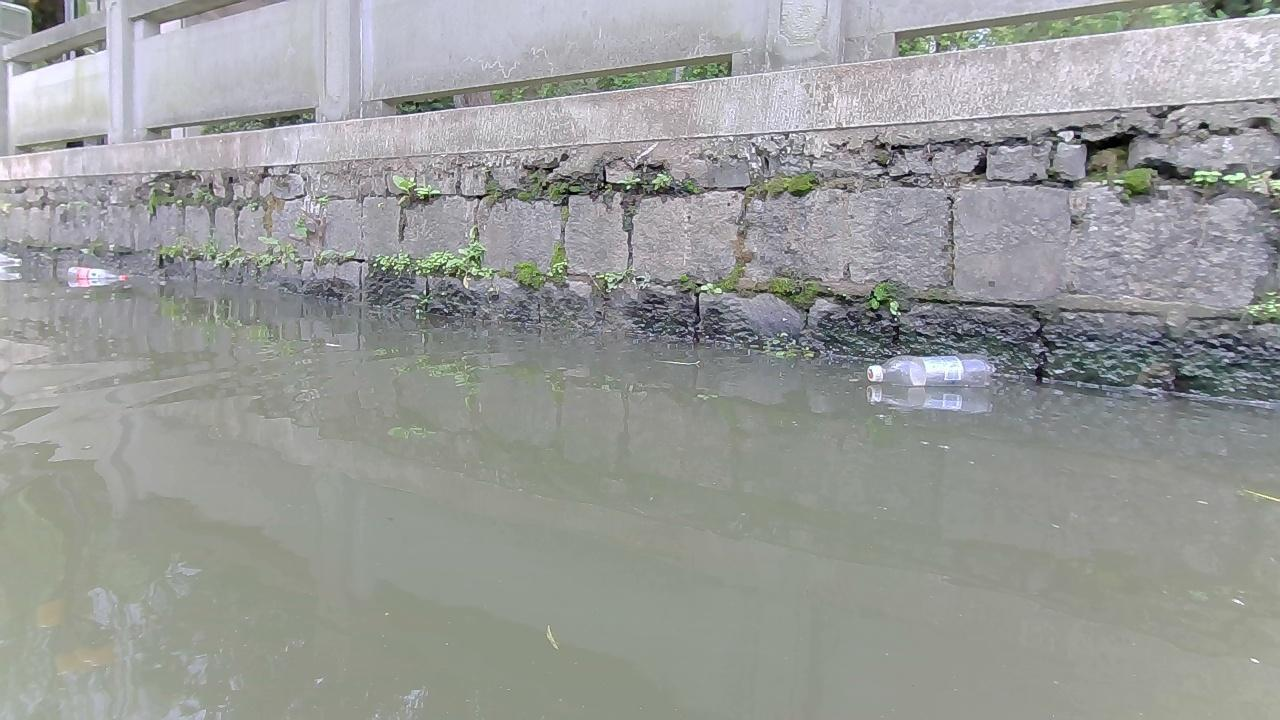bottle: (866, 351, 995, 384), (66, 265, 125, 279), (0, 251, 22, 262)
